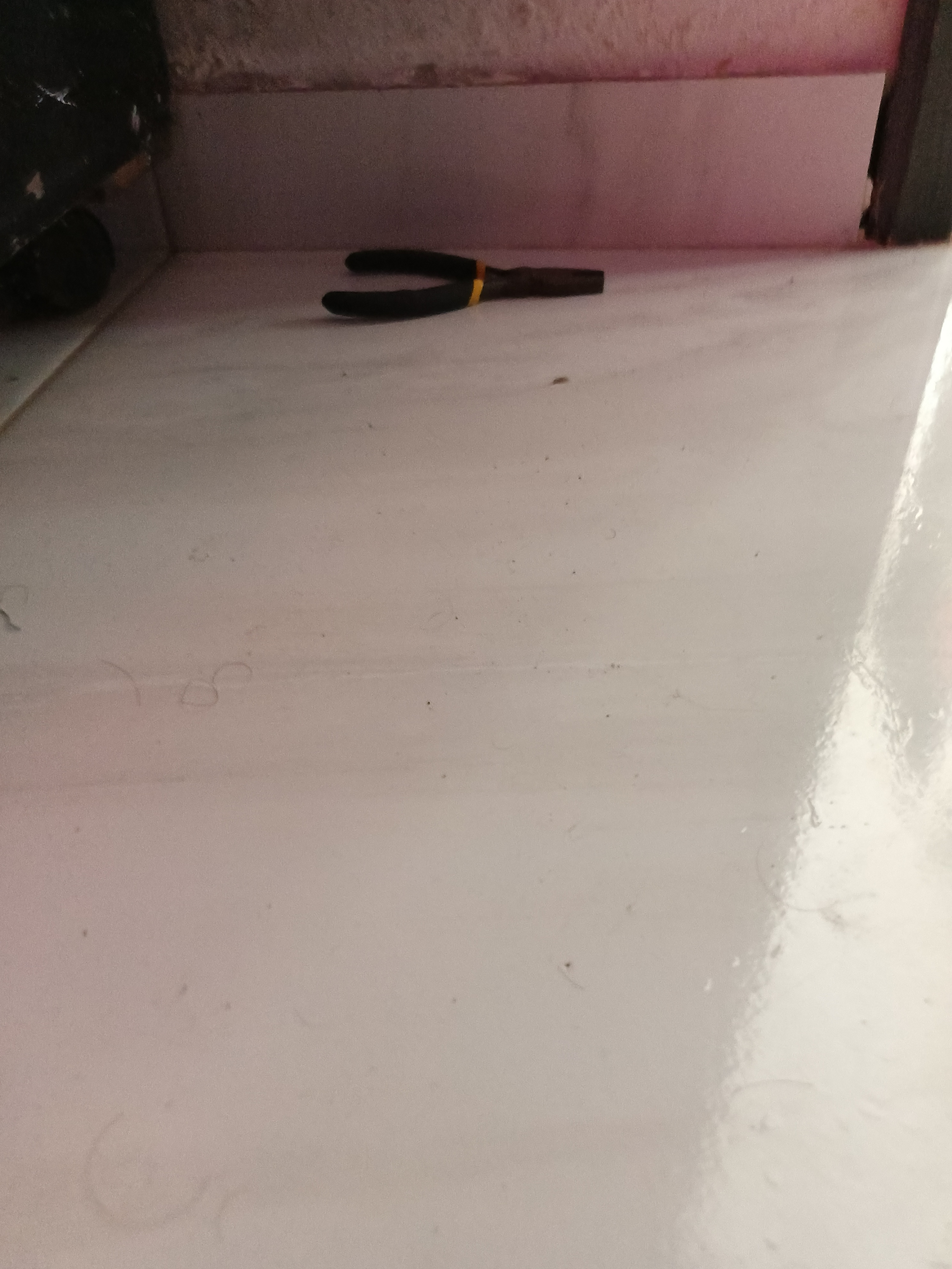Pinzas: (322, 248, 605, 319)
